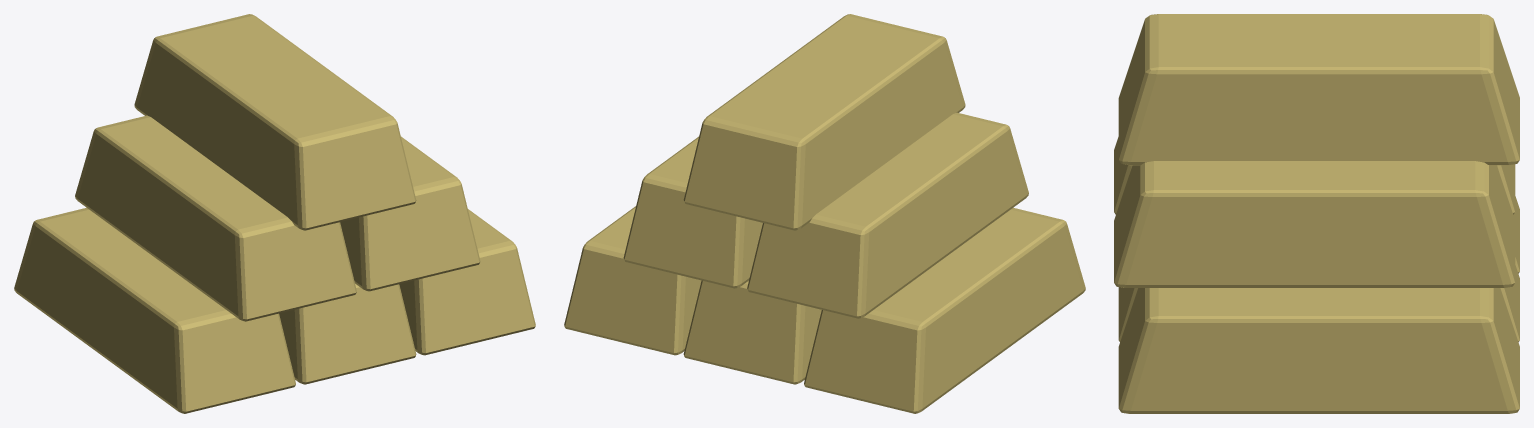
Rendered from SM_Gold_Ingots.fbx.
3 views of the same model, side by side, from view 1: azimuth 30°, elevation 25°; view 2: azimuth 150°, elevation 25°; view 3: azimuth 270°, elevation 25° (orthographic). The views are drawn at different scales.
Visible parts, largest first — view 1: SM_Gold_Ingots; view 2: SM_Gold_Ingots; view 3: SM_Gold_Ingots.
Boxes of the visible parts, left/top/right/bottom form: SM_Gold_Ingots: left=14, top=14, right=535, bottom=413; SM_Gold_Ingots: left=564, top=14, right=1085, bottom=413; SM_Gold_Ingots: left=1114, top=14, right=1519, bottom=413.
Bounding box in the file's own units: 72 × 45.17 × 60.72.
